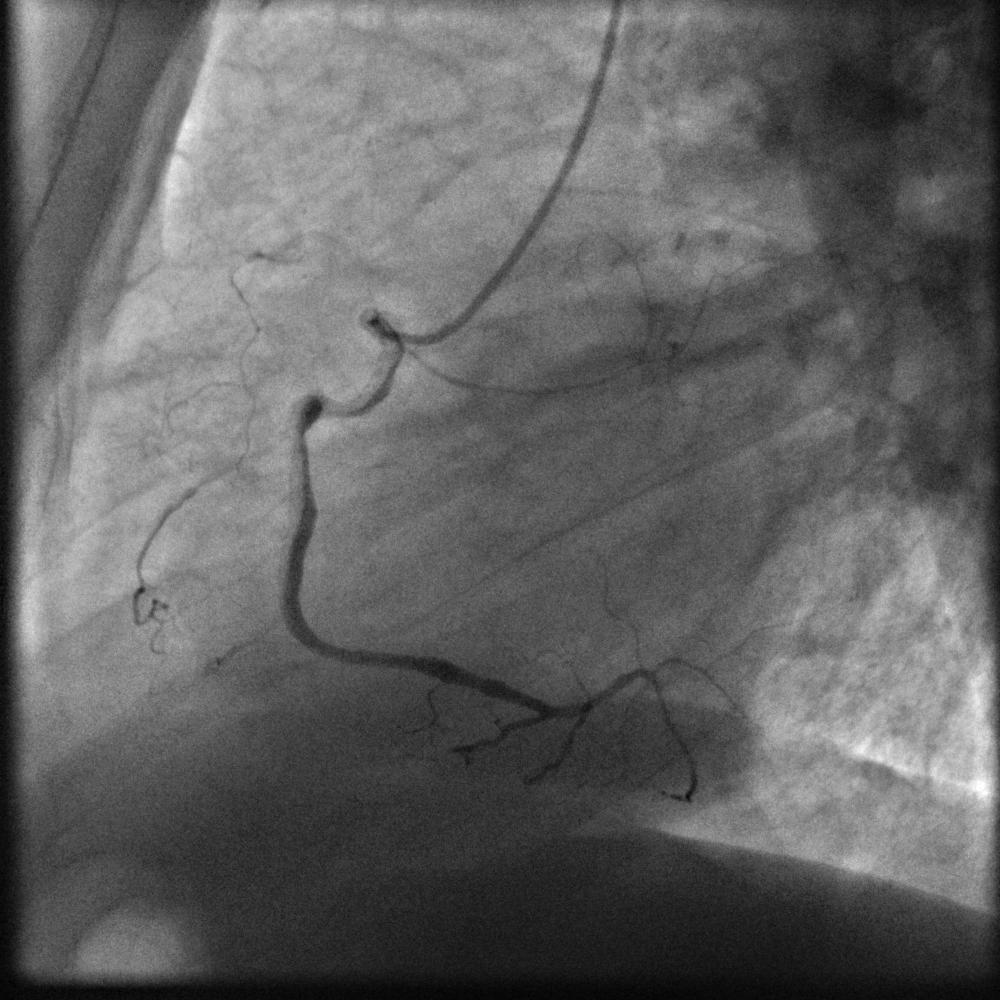Stenosis: (314, 390, 353, 422)
